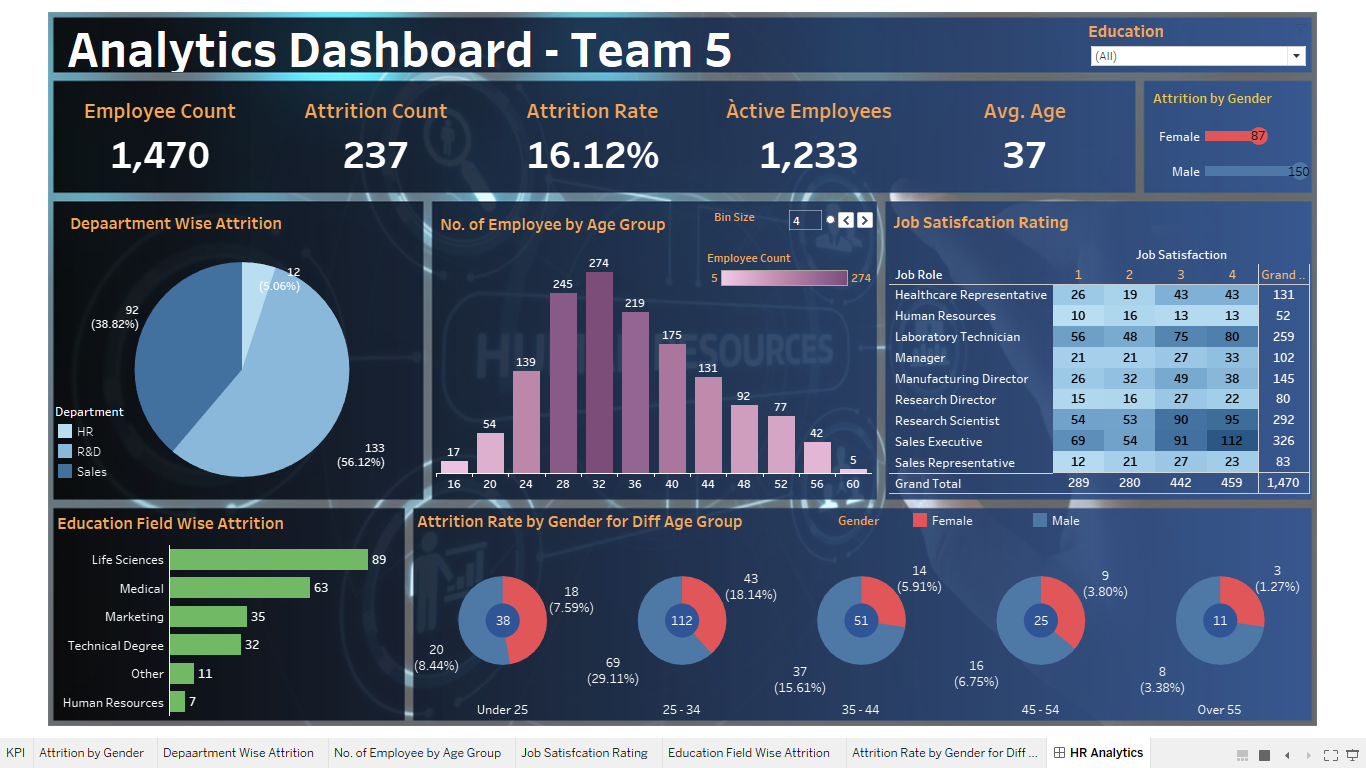

What the dashboard file says about the page in this screenshot:
{"tool":"tableau","page":{"name":"HR Analytics","canvas":[1000,1000],"units":"permille","ordinal":0},"visuals":[{"type":"image","param":"C:/Users/Administrator/Downloads/HR background.pptx.png","box":[6.9,12.7,986.1,974.7]},{"type":"filter","title":"No. of Employee by Age Group","param":"[federated.0818kq201apsmb1fkfvc503q3q4t].[none:Education:nk]","box":[796.2,26.9,161.5,193]},{"type":"text","box":[39.8,30.1,739.4,68]},{"type":"worksheet","title":"KPI","mark":"Automatic","box":[38,113.9,791,137.7]},{"type":"worksheet","title":"Attrition by Gender","mark":"Automatic","rows":["Gender"],"cols":["Calculation_110338212605337600","Calculation_110338212605337600"],"box":[841.1,115.5,118.3,140.8]},{"type":"parameter","param":"[Parameters].[Parameter 1]","box":[522.5,280.1,118.3,47.5]},{"type":"worksheet","title":"Job Satisfcation Rating","mark":"Square","rows":["Job Role"],"cols":["Job Satisfaction"],"box":[651.1,280.1,308.3,390.8]},{"type":"worksheet","title":"Depaartment Wise Attrition","mark":"Pie","box":[48.4,281.7,257.3,387.7]},{"type":"worksheet","title":"No. of Employee by Age Group","mark":"Automatic","rows":["Employee Count"],"cols":["Age (bin)"],"box":[319.5,283.2,319.5,384.5]},{"type":"legend","title":"No. of Employee by Age Group","param":"[federated.0818kq201apsmb1fkfvc503q3q4t].[sum:Employee Count:qk]","box":[517.3,338.6,123.5,58.5]},{"type":"legend","title":"Depaartment Wise Attrition","param":"[federated.0818kq201apsmb1fkfvc503q3q4t].[none:Department:nk]","box":[40.6,545.9,113.1,123.4]},{"type":"worksheet","title":"Attrition Rate by Gender for Diff Age Group","mark":"Pie","rows":["Calculation_110338212693622789","Calculation_110338212693622789"],"cols":["CF_age band"],"box":[302.2,685.1,656.3,288]},{"type":"worksheet","title":"Education Field Wise Attrition","mark":"Automatic","rows":["Education Field"],"cols":["Calculation_110338212605337600"],"box":[38.9,688.3,255.6,281.7]},{"type":"legend","title":"Attrition Rate by Gender for Diff Age Group","param":"[federated.0818kq201apsmb1fkfvc503q3q4t].[none:Gender:nk]","box":[613.1,691.5,284.1,47.5]}]}

Visuals, with their boxes on the dashboard's canvas, which has no fixed pixel size, in thousandths of its width and height (x1, y1, x2, y2). These are canvas units, not pixel positions in the 1366x768 screenshot, which may show the page scaled, cropped or inside an application window:
image: 7, 13, 993, 987
"No. of Employee by Age Group" filter: 796, 27, 958, 220
text: 40, 30, 779, 98
"KPI" worksheet: 38, 114, 829, 252
"Attrition by Gender" worksheet: 841, 116, 959, 256
parameter: 522, 280, 641, 328
"Job Satisfcation Rating" worksheet (Square marks): 651, 280, 959, 671
"Depaartment Wise Attrition" worksheet (Pie marks): 48, 282, 306, 669
"No. of Employee by Age Group" worksheet: 320, 283, 639, 668
"No. of Employee by Age Group" legend: 517, 339, 641, 397
"Depaartment Wise Attrition" legend: 41, 546, 154, 669
"Attrition Rate by Gender for Diff Age Group" worksheet (Pie marks): 302, 685, 958, 973
"Education Field Wise Attrition" worksheet: 39, 688, 294, 970
"Attrition Rate by Gender for Diff Age Group" legend: 613, 692, 897, 739
